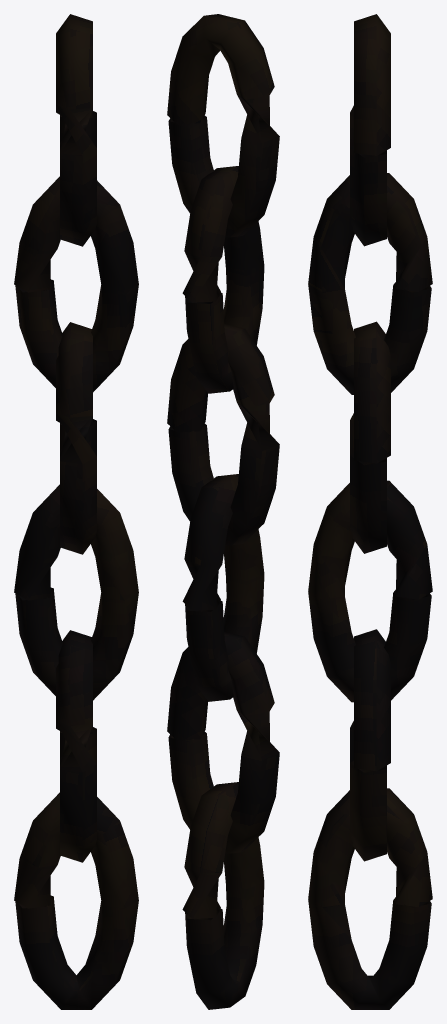
Rendered from circus_chain.obj.
3 views of the same model, side by side, from view 1: azimuth 90°, elevation 25°; view 2: azimuth 150°, elevation 25°; view 3: azimuth 270°, elevation 25° (orthographic).
Visible parts, largest first — view 1: part0; view 2: part0; view 3: part0.
Part boxes in pixels (left/top/right/bottom): part0: left=14, top=14, right=138, bottom=1009; part0: left=167, top=14, right=279, bottom=1009; part0: left=308, top=14, right=432, bottom=1009.
Bounding box in the file's own units: 0.1205 × 1.07 × 0.1225.
